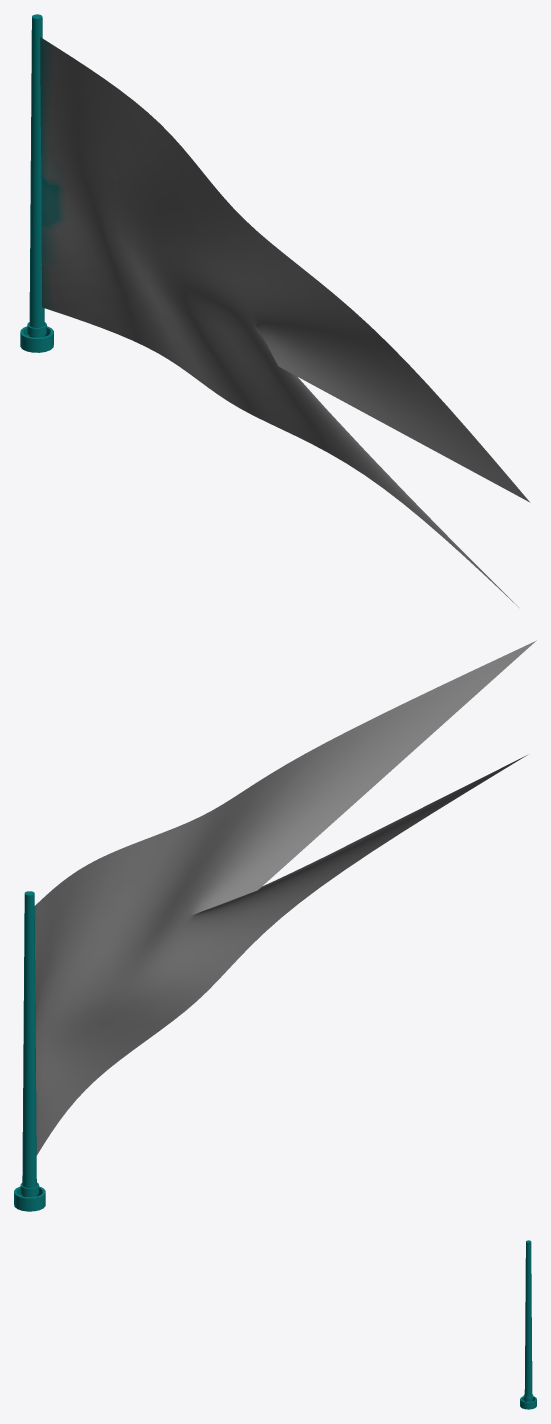
File: SM_ShipFlag.gltf
3 views of the same model, one above another, from view 1: azimuth 30°, elevation 25°; view 2: azimuth 150°, elevation 25°; view 3: azimuth 270°, elevation 25° (orthographic). The views are drawn at different scales.
Parts seen in each view (by area): view 1: StaticMesh; view 2: StaticMesh; view 3: StaticMesh.
Boxes of the visible parts, x1,y1,x2,y2 form: StaticMesh: [20, 14, 530, 607]; StaticMesh: [14, 640, 536, 1211]; StaticMesh: [520, 1240, 536, 1409].
Bounding box in the file's own units: 0.7124 × 4.88 × 14.05.
